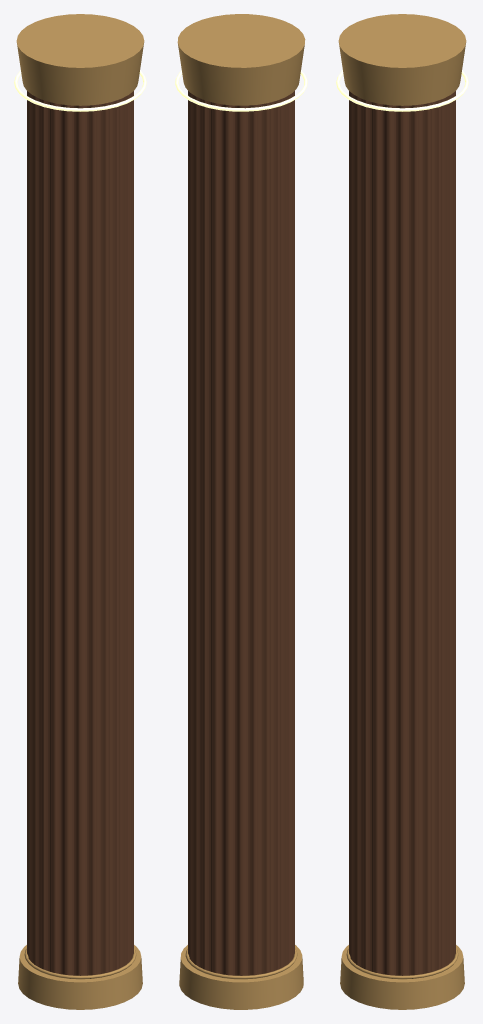
File: column_fluted.glb
3 views of the same model, side by side, from view 1: azimuth 90°, elevation 25°; view 2: azimuth 150°, elevation 25°; view 3: azimuth 270°, elevation 25° (orthographic).
Parts seen in each view (by area): view 1: Mesh_Shaft, Mesh_Capital, Mesh_Plinth, Mesh_Uplight, Mesh_BaseRing; view 2: Mesh_Shaft, Mesh_Capital, Mesh_Plinth, Mesh_Uplight, Mesh_BaseRing; view 3: Mesh_Shaft, Mesh_Capital, Mesh_Plinth, Mesh_Uplight, Mesh_BaseRing.
Part boxes in pixels (x1=…): Mesh_Shaft: x1=27, y1=91, x2=133, y2=975; Mesh_Capital: x1=16, y1=14, x2=144, y2=105; Mesh_Plinth: x1=18, y1=945, x2=142, y2=1009; Mesh_Uplight: x1=14, y1=70, x2=146, y2=111; Mesh_BaseRing: x1=24, y1=948, x2=136, y2=979; Mesh_Shaft: x1=188, y1=91, x2=294, y2=975; Mesh_Capital: x1=177, y1=14, x2=305, y2=105; Mesh_Plinth: x1=179, y1=945, x2=303, y2=1009; Mesh_Uplight: x1=175, y1=70, x2=307, y2=111; Mesh_BaseRing: x1=185, y1=948, x2=297, y2=979; Mesh_Shaft: x1=349, y1=91, x2=455, y2=975; Mesh_Capital: x1=338, y1=14, x2=466, y2=105; Mesh_Plinth: x1=340, y1=945, x2=464, y2=1009; Mesh_Uplight: x1=336, y1=70, x2=468, y2=111; Mesh_BaseRing: x1=346, y1=948, x2=458, y2=979.
Size of the model in its own units: 0.894 by 7 by 0.894.
